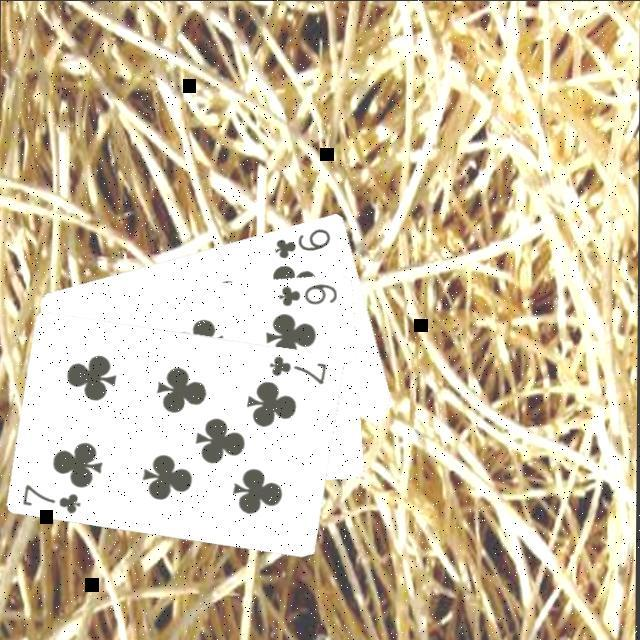6C: (278, 280, 342, 310)
7C: (21, 482, 86, 517), (268, 354, 332, 388)
9C: (272, 225, 336, 262)
